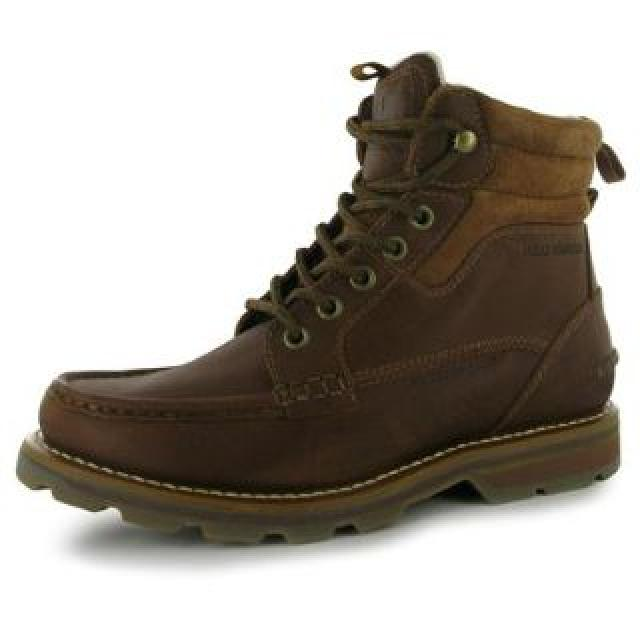boot: (19, 39, 622, 546)
